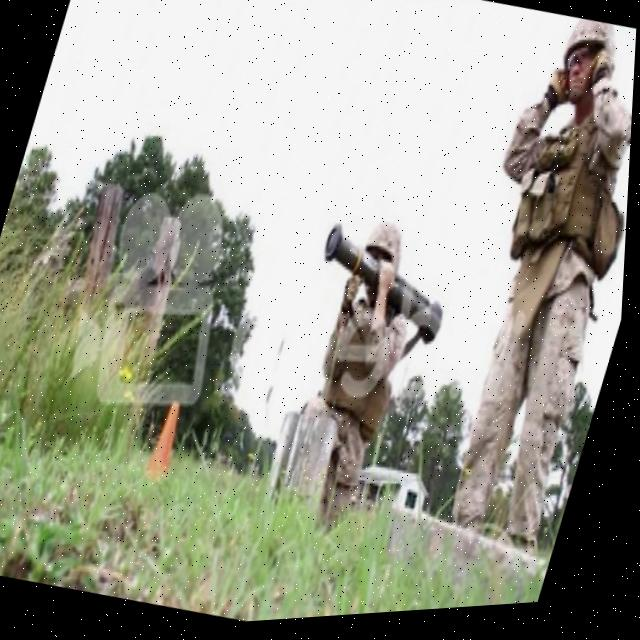rocket: (291, 193, 480, 388)
